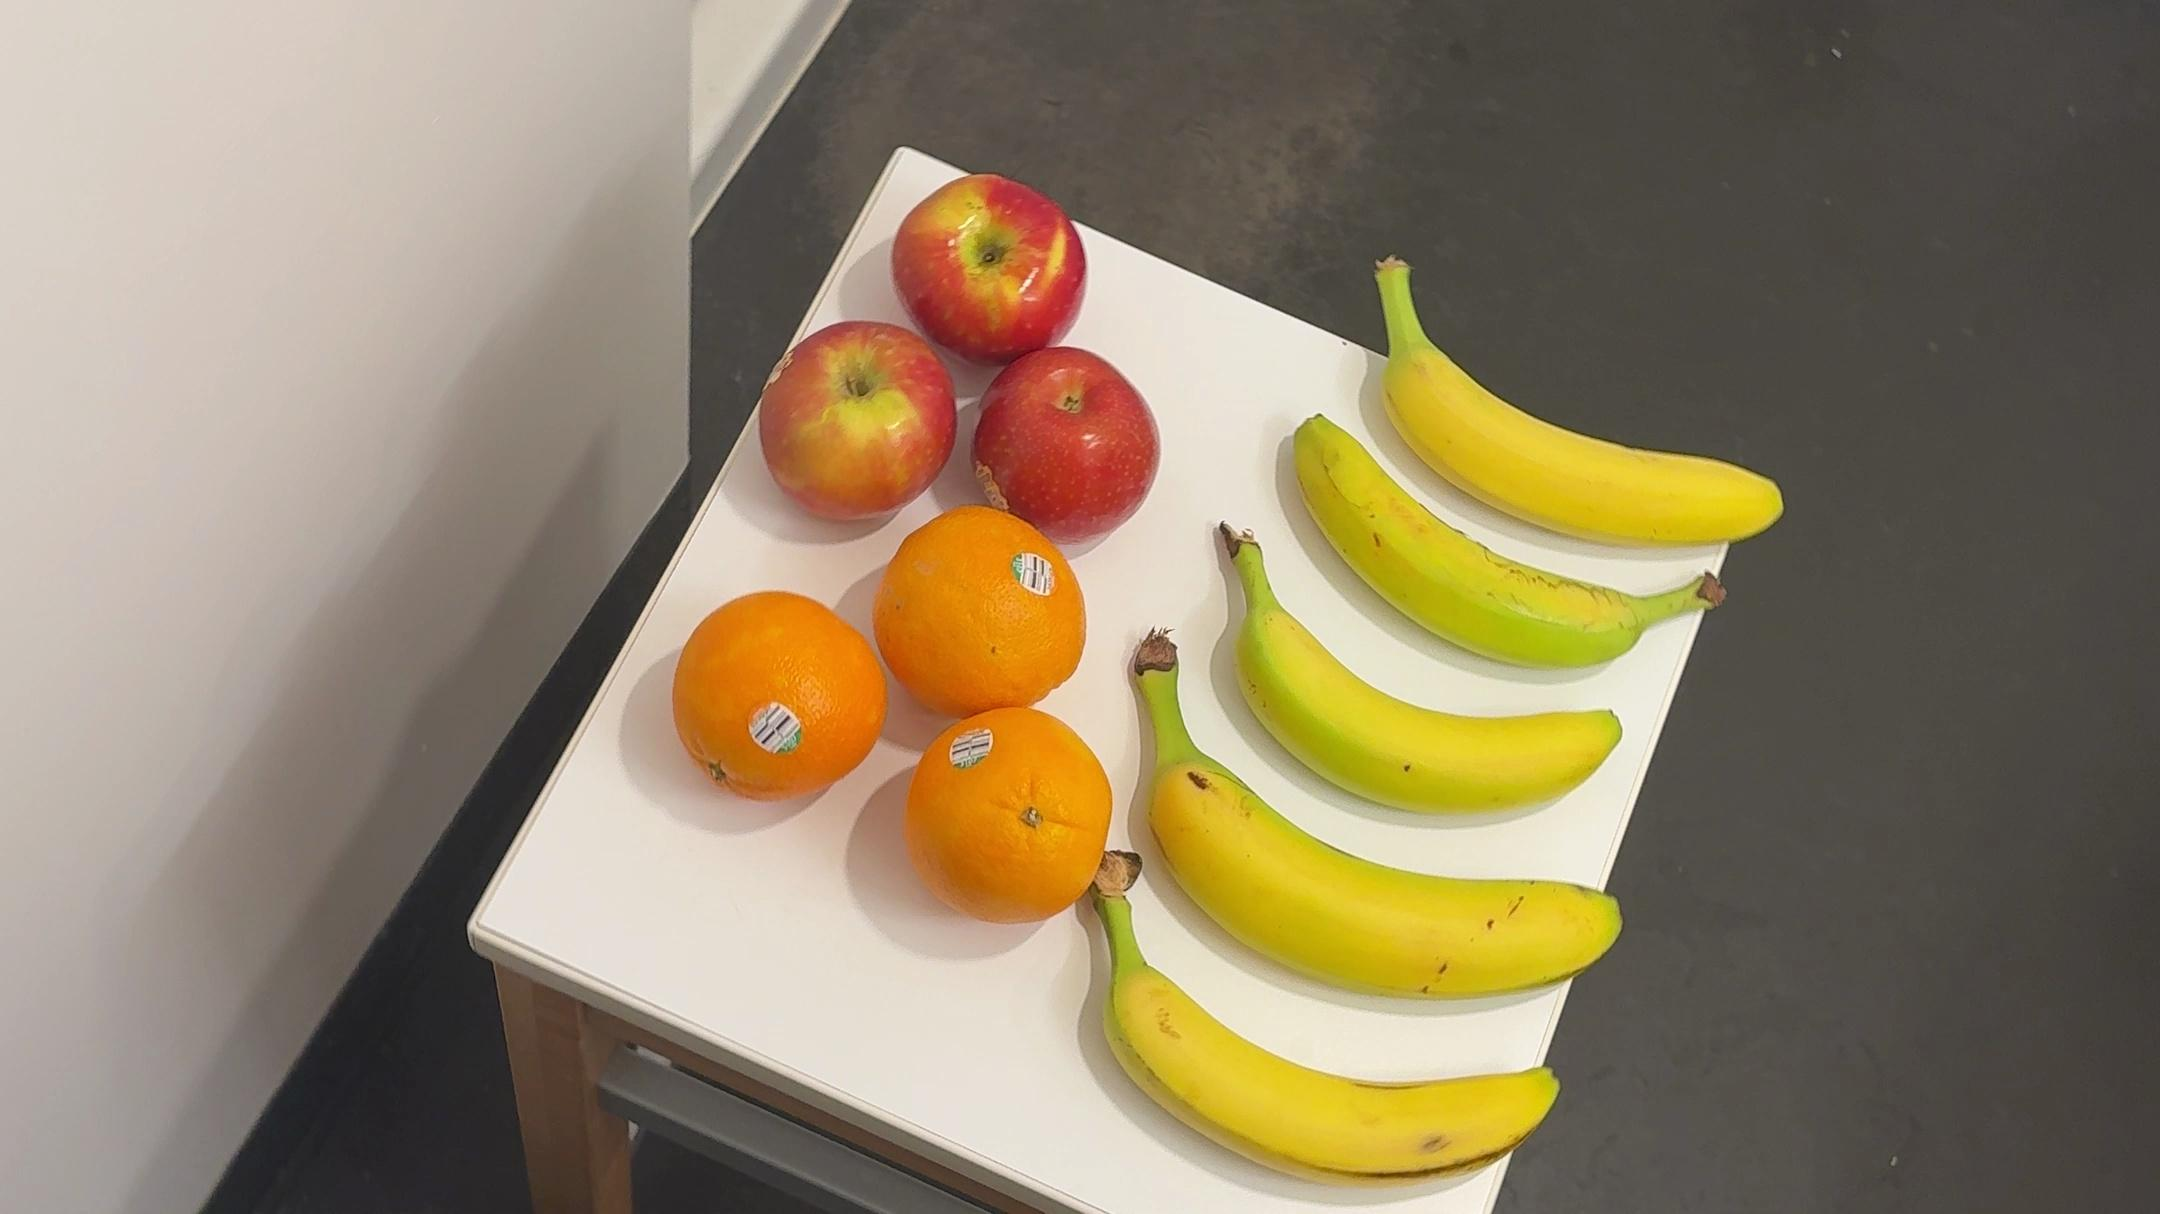apple: (880, 159, 1095, 367), (972, 352, 1172, 568), (754, 319, 951, 519)
banana: (1116, 626, 1642, 1000), (1079, 850, 1571, 1192), (1360, 252, 1792, 560), (1208, 516, 1630, 830), (1283, 404, 1725, 687)
orange: (669, 594, 881, 822), (880, 497, 1096, 715), (905, 699, 1110, 920)
